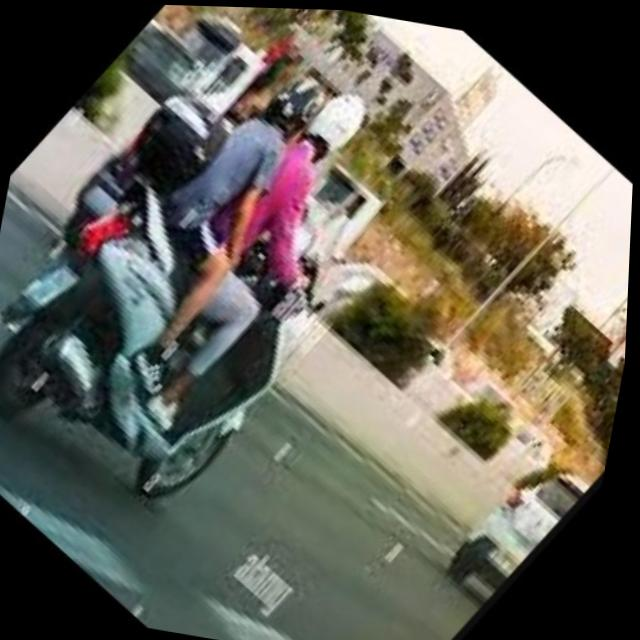WITH_HELMET: (288, 73, 382, 173), (265, 54, 337, 129)
